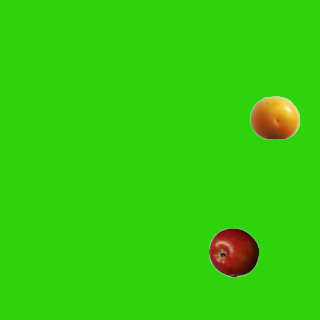Apple Braeburn: (208, 227, 258, 277)
Cherry Wax Yellow: (249, 92, 299, 142)
